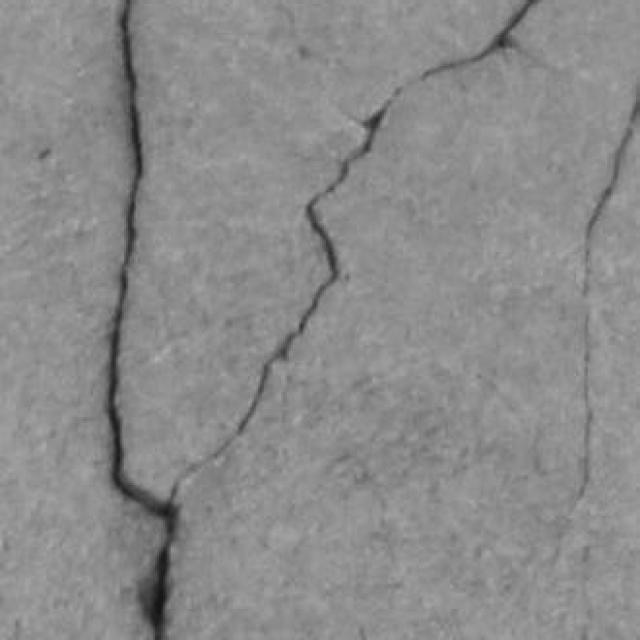crack: (109, 0, 539, 639), (107, 0, 174, 534), (571, 86, 639, 512), (575, 88, 639, 503)
